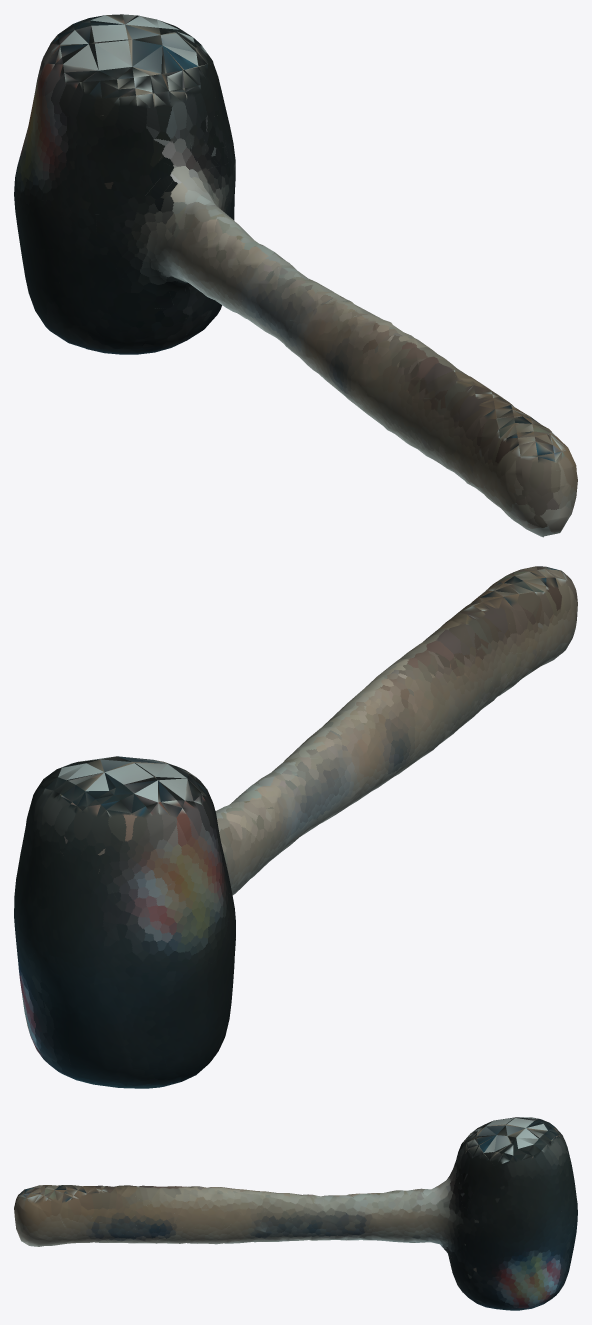
Rendered from doublehammer_new_egocentric.fbx.
3 views of the same model, one above another, from view 1: azimuth 30°, elevation 25°; view 2: azimuth 150°, elevation 25°; view 3: azimuth 270°, elevation 25° (orthographic). The views are drawn at different scales.
Parts seen in each view (by area): view 1: doublehammer_new; view 2: doublehammer_new; view 3: doublehammer_new.
Part boxes in pixels (x1,y1,x2,y2): doublehammer_new: [14, 14, 577, 537]; doublehammer_new: [14, 566, 577, 1088]; doublehammer_new: [14, 1117, 577, 1310].
Size of the model in its own units: 7.64 by 11.67 by 34.19.
1 material, 1 textured.
